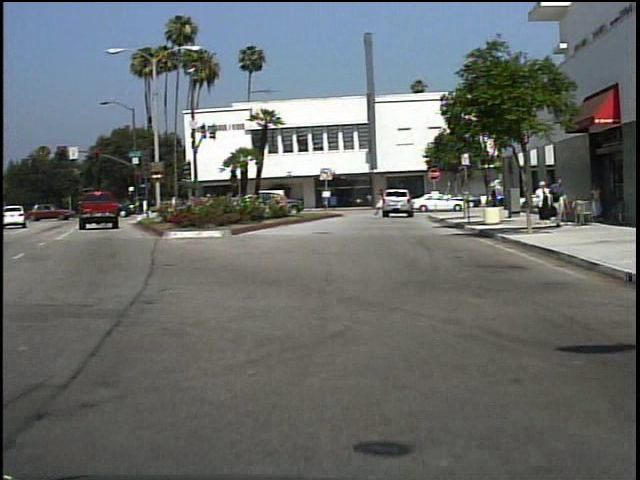person: (550, 174, 570, 232), (484, 181, 508, 214), (536, 179, 553, 224), (588, 179, 604, 223), (370, 188, 391, 217)
